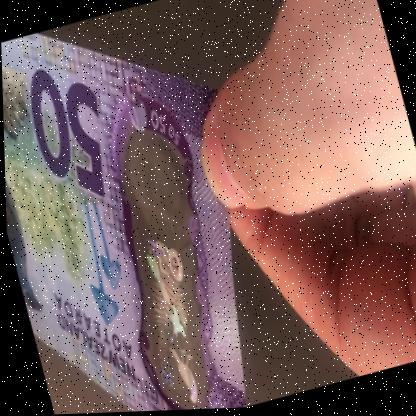50B: (95, 122, 237, 412)
